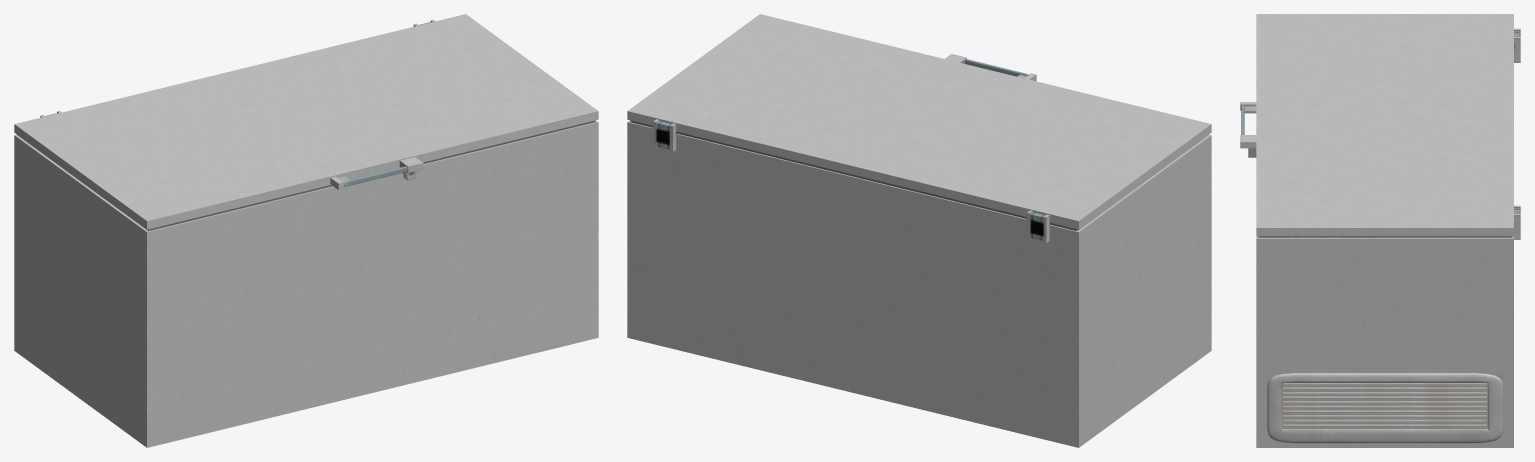
File: Freezer.fbx
3 renders of one model, left to right at view 1: azimuth 30°, elevation 25°; view 2: azimuth 150°, elevation 25°; view 3: azimuth 270°, elevation 25°, orthographic. The views are drawn at different scales.
Visible parts, largest first — view 1: Freezer, Lid, Foam, Handle; view 2: Freezer, Lid, Hinges, Foam; view 3: Lid, Freezer, Bar, Grill, Foam, Hinges, Handle.
Boxes of the visible parts, x1,y1,x2,y2 form: Freezer: (14, 120, 598, 447); Lid: (14, 14, 598, 229); Foam: (18, 120, 595, 230); Handle: (330, 157, 423, 189); Freezer: (627, 120, 1211, 447); Lid: (627, 14, 1211, 229); Hinges: (653, 119, 1050, 243); Foam: (630, 120, 1207, 230); Lid: (1256, 14, 1513, 236); Freezer: (1256, 236, 1513, 447); Bar: (1282, 383, 1487, 428); Grill: (1267, 373, 1503, 443); Foam: (1257, 236, 1512, 237); Hinges: (1514, 28, 1520, 239); Handle: (1240, 102, 1256, 148).
Size of the model in its own units: 1.67 by 0.7959 by 0.9177.
